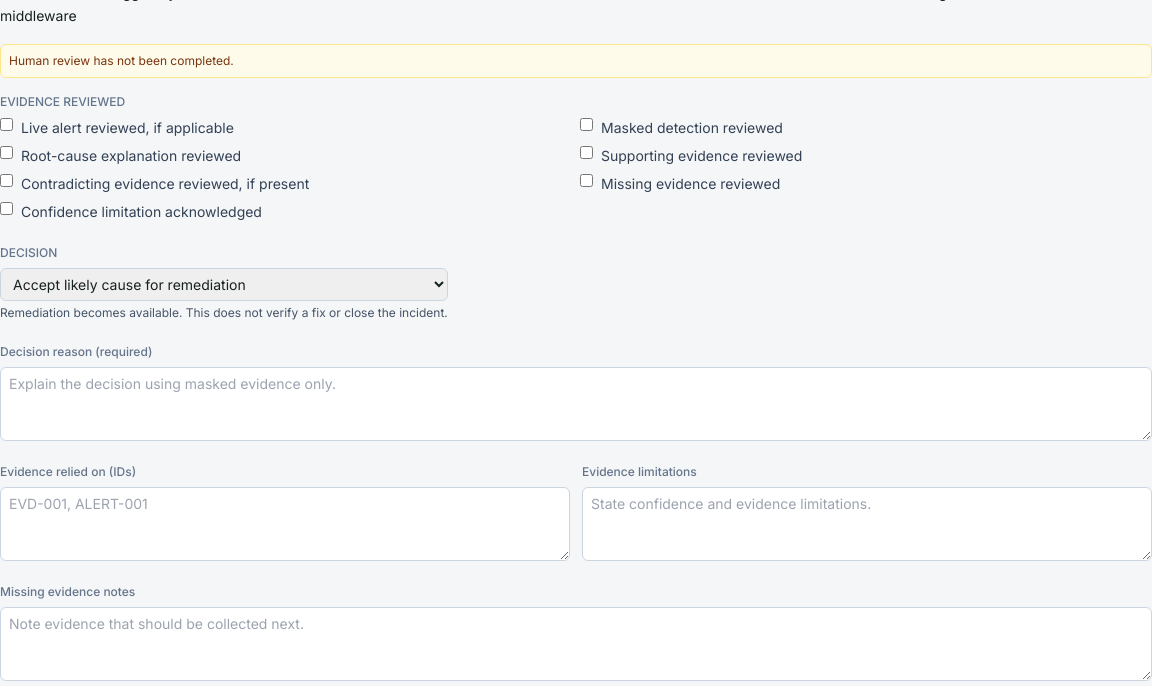
Scenario: product flow › saves a persistent draft without submitting a final decision
Type "Masked evidence needs another reviewer." into the text box labelled "Decision reason (required)" at (576, 404), box [0,366,1151,440]
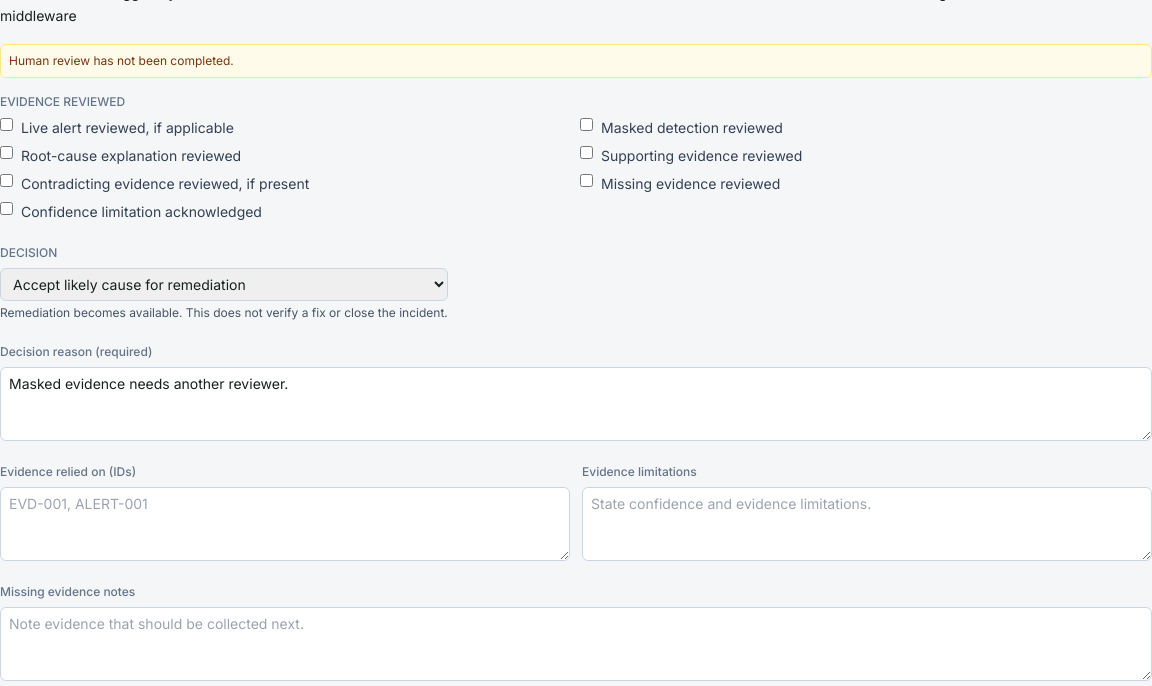
Click the checkbox labelled "Masked detection reviewed" at (586, 124), box [580,118,593,130]
(page scrolled)
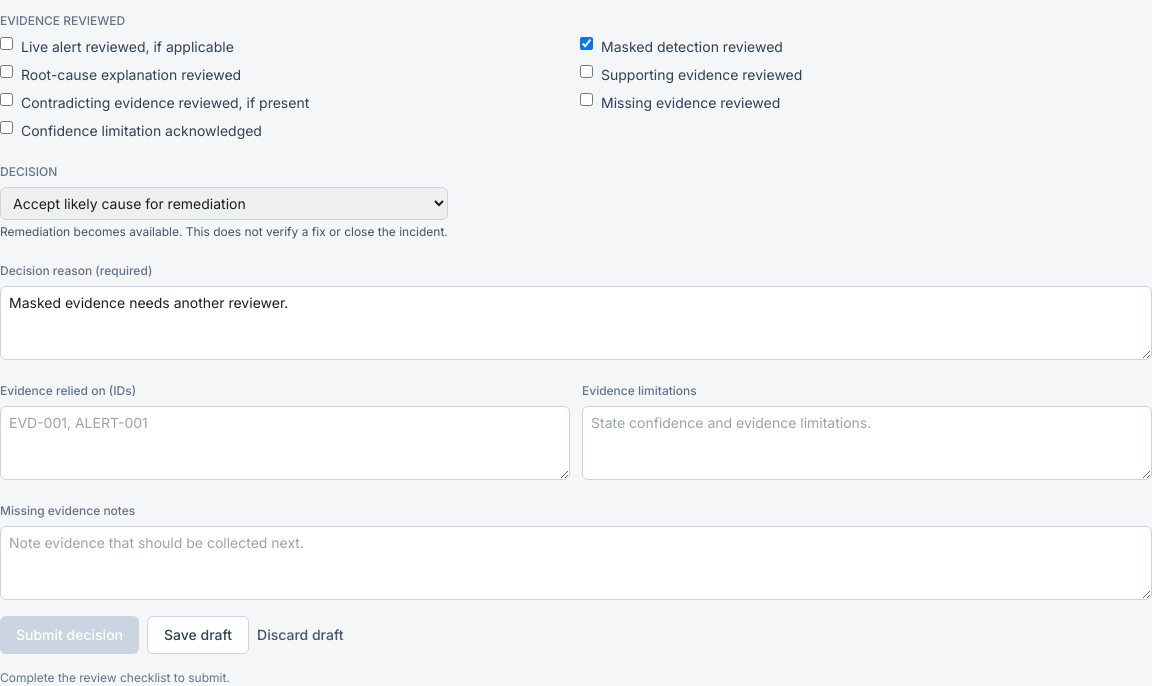
Click the button "Save draft" at (198, 634), box [147,616,249,654]
(page scrolled)
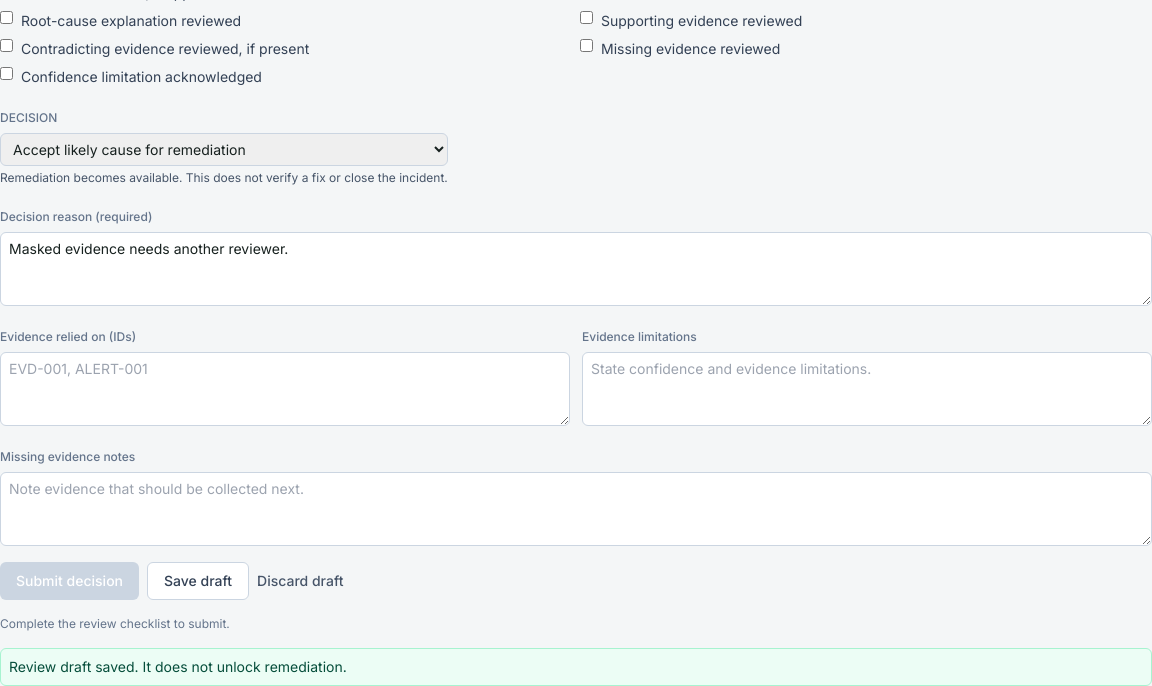
Now the text "Review draft saved. It does not unlock remediation." is shown, box [0,648,1151,685]
